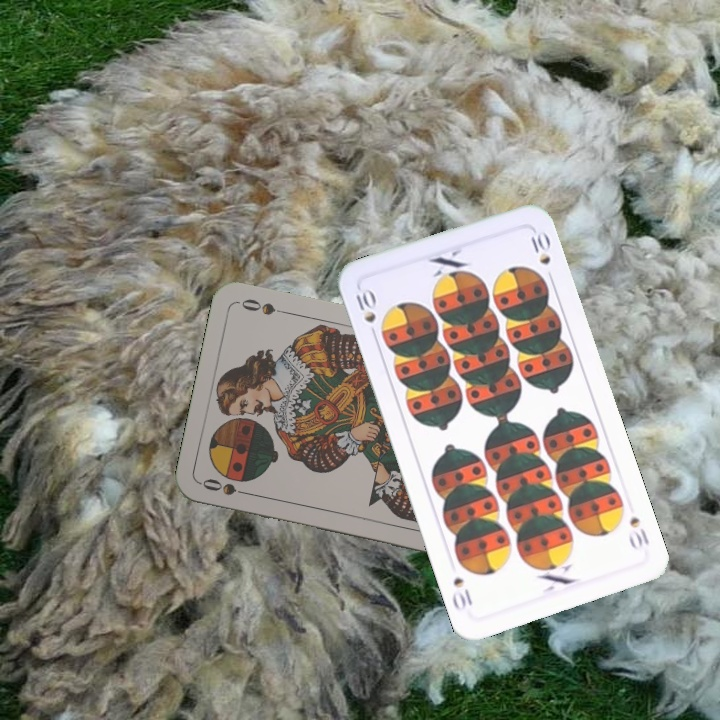S10: (352, 284, 380, 342), (625, 512, 652, 553)
SO: (198, 474, 257, 499)
